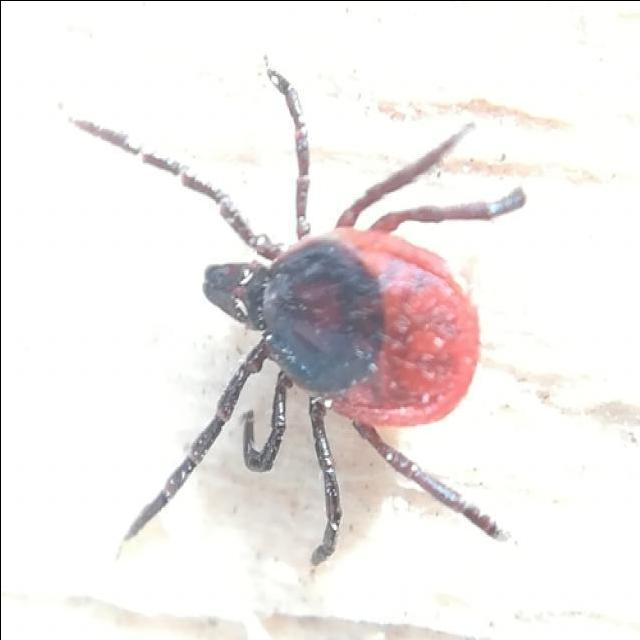Ixodes Ricinus-F: (59, 63, 525, 563)
